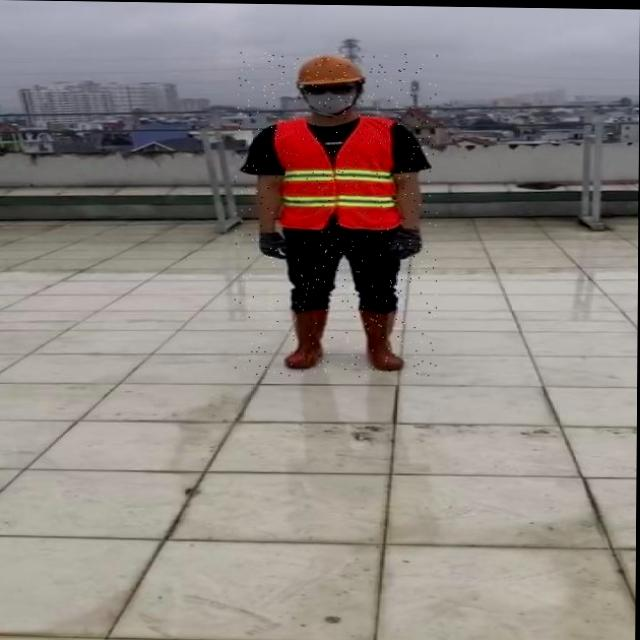Gloves: (387, 226, 422, 259), (259, 231, 289, 259)
Helmet: (296, 53, 365, 115)
Safety-Boot: (360, 306, 404, 369), (285, 306, 327, 367)
Safety-Vest: (272, 113, 402, 231)
